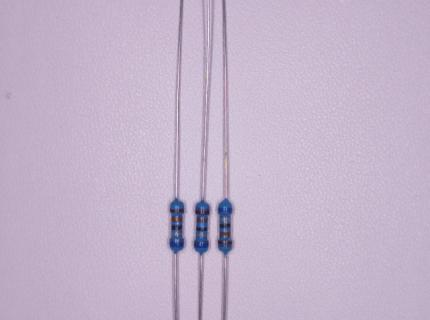Black band: (219, 224, 231, 228), (196, 227, 208, 231), (171, 226, 182, 230)
Blue band: (194, 242, 208, 248), (170, 241, 183, 247), (218, 208, 232, 212)
Brown band: (170, 208, 184, 213), (218, 240, 232, 245), (196, 210, 210, 214)
Grey band: (171, 232, 182, 236), (196, 233, 207, 237), (220, 218, 230, 221)
Orange band: (171, 216, 182, 222), (220, 232, 231, 237), (197, 218, 208, 222)
